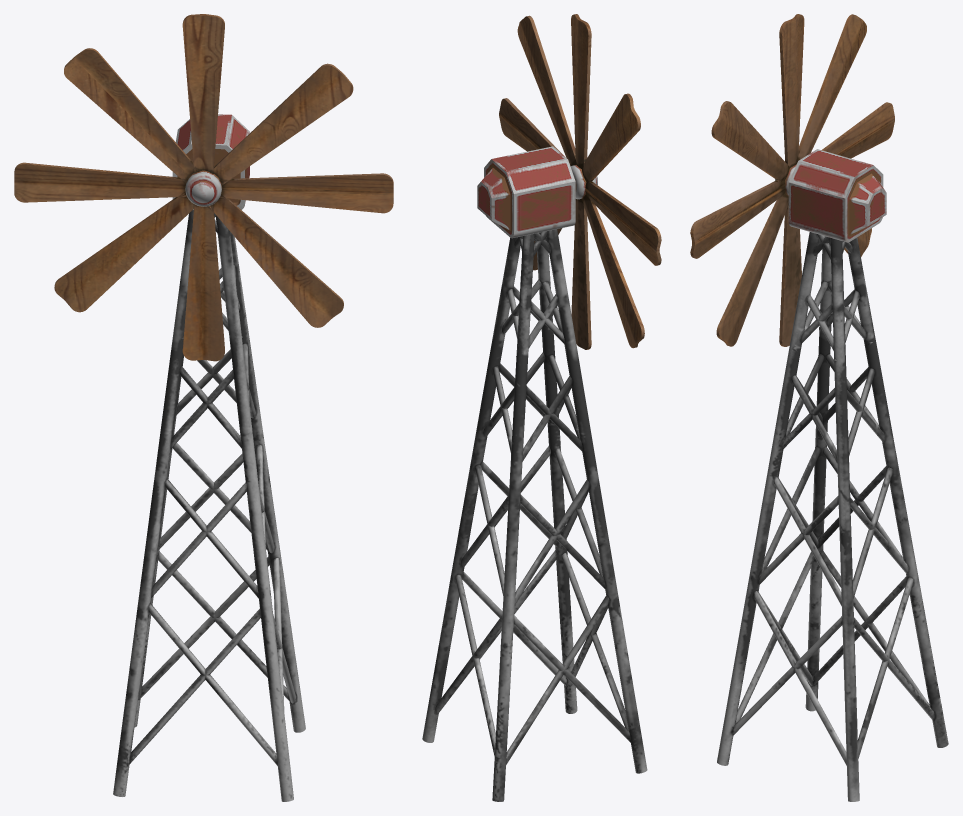
The model's file is windmill_30deb775.glb.
3 renders of one model, left to right at view 1: azimuth 30°, elevation 25°; view 2: azimuth 150°, elevation 25°; view 3: azimuth 270°, elevation 25°, orthographic. The views are drawn at different scales.
Visible parts, largest first — view 1: polySurface158; view 2: polySurface158; view 3: polySurface158.
Part boxes in pixels (box(x1,y1,x2,y2)): polySurface158: box(14, 14, 393, 801); polySurface158: box(422, 14, 661, 801); polySurface158: box(690, 14, 948, 801).
Size of the model in its own units: 0.1781 by 0.4757 by 0.1537.
Materials: 1 (1 with a texture image).
